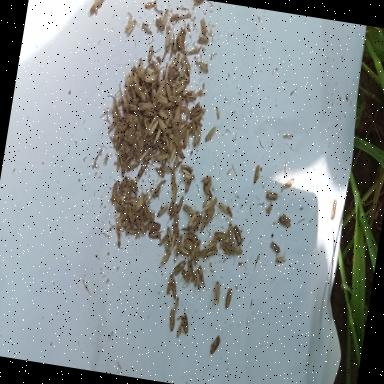pbw: (134, 158, 148, 180), (127, 61, 141, 83), (210, 281, 222, 306), (229, 225, 243, 246), (178, 312, 190, 336), (200, 182, 214, 201), (184, 260, 196, 282), (166, 308, 177, 332), (208, 334, 220, 356), (220, 242, 236, 258), (125, 179, 140, 196), (162, 80, 174, 101), (118, 175, 128, 200), (154, 148, 169, 164), (204, 124, 216, 144), (124, 15, 136, 35), (136, 85, 151, 101), (172, 259, 185, 277), (176, 27, 186, 50), (188, 102, 200, 121), (277, 213, 292, 228), (212, 230, 228, 244), (147, 228, 164, 241), (168, 278, 178, 300), (192, 270, 202, 292), (195, 266, 206, 286), (264, 190, 282, 202), (134, 64, 146, 82), (173, 82, 186, 98), (186, 210, 198, 227), (169, 32, 179, 52), (152, 178, 162, 198), (225, 224, 234, 246), (223, 288, 232, 310), (178, 268, 191, 283), (156, 203, 168, 219), (168, 222, 180, 238), (110, 182, 118, 206), (166, 272, 174, 296), (136, 100, 152, 112), (121, 73, 131, 92), (164, 226, 174, 245), (174, 234, 182, 257), (125, 160, 138, 174), (180, 169, 194, 182), (180, 203, 194, 216), (124, 112, 139, 124), (172, 106, 182, 124), (204, 197, 216, 212), (142, 72, 157, 84), (148, 119, 158, 137), (198, 17, 208, 35), (116, 82, 125, 102), (192, 126, 200, 148), (200, 214, 209, 233), (134, 192, 143, 211), (182, 57, 192, 74), (140, 204, 152, 218), (163, 28, 171, 49), (170, 182, 178, 203), (268, 241, 280, 255), (119, 140, 131, 154), (193, 243, 200, 266), (174, 318, 182, 338), (160, 251, 170, 267), (172, 149, 180, 169), (252, 164, 260, 184), (140, 146, 150, 162), (136, 138, 144, 158), (170, 212, 180, 228), (144, 222, 160, 232), (198, 248, 211, 260), (156, 93, 168, 106), (281, 178, 294, 190), (140, 22, 153, 34), (153, 19, 165, 32), (123, 195, 137, 206), (146, 212, 155, 229), (114, 229, 122, 248), (191, 213, 201, 228), (128, 86, 137, 102), (153, 166, 165, 178), (168, 172, 176, 190), (113, 203, 125, 215), (174, 52, 182, 70), (168, 204, 177, 220), (126, 123, 134, 141), (152, 128, 160, 146), (168, 146, 176, 164), (180, 88, 193, 99), (184, 232, 198, 242), (169, 232, 176, 252), (119, 160, 127, 177), (178, 65, 186, 82), (176, 197, 184, 214), (188, 45, 200, 56), (217, 202, 229, 213), (116, 120, 128, 131), (182, 128, 188, 150), (143, 0, 155, 11), (175, 148, 186, 160), (183, 94, 196, 104), (146, 45, 153, 63), (114, 154, 121, 172), (196, 61, 207, 72), (178, 246, 190, 256), (156, 120, 166, 132), (204, 180, 212, 195), (168, 56, 178, 68), (150, 60, 160, 72), (161, 8, 168, 25), (113, 101, 122, 114), (191, 272, 198, 288), (179, 164, 193, 172), (161, 46, 168, 62), (114, 216, 122, 230), (140, 194, 148, 208), (207, 248, 218, 258), (173, 296, 179, 314), (179, 124, 187, 137), (139, 222, 147, 235), (158, 233, 166, 246), (158, 135, 168, 145), (143, 107, 154, 116), (275, 255, 286, 264), (179, 12, 190, 21), (193, 88, 202, 99), (167, 202, 174, 216), (201, 194, 208, 208), (112, 130, 120, 142), (160, 164, 172, 172), (225, 205, 233, 217), (163, 64, 169, 80), (107, 122, 115, 134), (127, 102, 136, 112), (169, 13, 178, 23), (158, 110, 168, 119), (191, 242, 196, 259), (188, 246, 194, 260), (196, 39, 208, 46), (197, 35, 209, 42), (183, 182, 190, 194), (182, 74, 190, 84), (195, 110, 203, 120), (164, 126, 172, 136), (180, 106, 188, 116), (214, 107, 220, 120), (164, 238, 170, 250), (151, 89, 157, 101), (121, 97, 128, 107), (126, 230, 136, 237), (192, 0, 203, 6), (154, 55, 162, 63), (164, 101, 172, 109), (112, 112, 120, 120), (184, 238, 192, 246), (196, 106, 202, 116), (134, 131, 142, 137), (180, 46, 186, 54), (209, 242, 215, 249), (196, 122, 202, 128)
